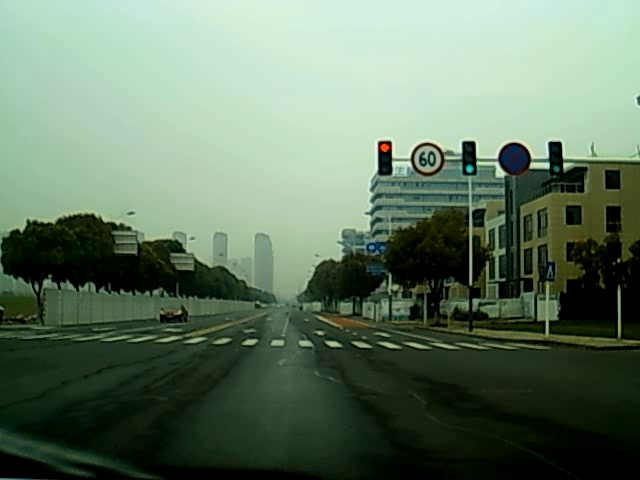Traffic_Light_go: (549, 144, 563, 178), (462, 142, 474, 176)
Traffic_Light_stop: (378, 141, 390, 177)
